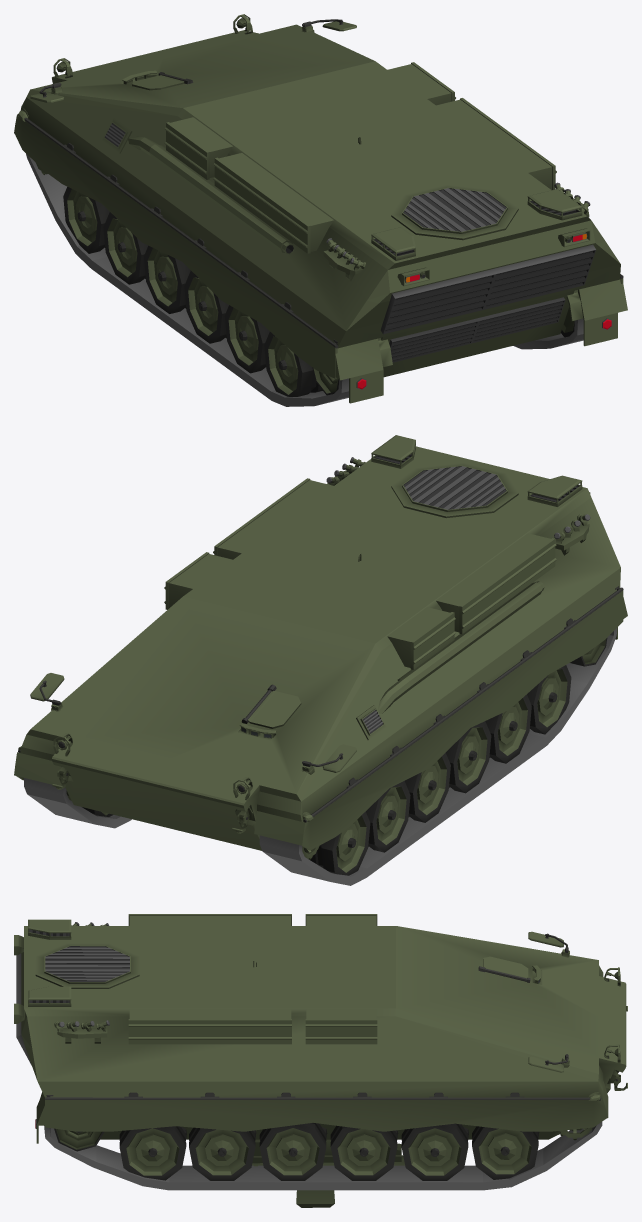
The model's file is roland.glb.
3 views of the same model, one above another, from view 1: azimuth 30°, elevation 25°; view 2: azimuth 150°, elevation 25°; view 3: azimuth 270°, elevation 25° (orthographic). The views are drawn at different scales.
Visible parts, largest first — view 1: body|Material#camo, body|Material.001#camo, body|Material.004, body|material_0, body|Material.007, body|Material.011, body|Material.008; view 2: body|Material#camo, body|Material.001#camo, body|Material.007, body|Material.011, body|Material.004, body|Material.008, body|material_0; view 3: body|Material#camo, body|Material.001#camo, body|Material.007, body|Material.011, body|Material.004, body|Material.008, body|material_0, cradle|Material.001#camo.
Boxes of the visible parts, x1=… form: body|Material#camo: x1=18, y1=24, x2=623, y2=377; body|Material.001#camo: x1=14, y1=14, x2=627, y2=403; body|Material.004: x1=105, y1=124, x2=612, y2=389; body|material_0: x1=104, y1=123, x2=594, y2=362; body|Material.007: x1=26, y1=154, x2=583, y2=406; body|Material.011: x1=63, y1=186, x2=574, y2=396; body|Material.008: x1=18, y1=19, x2=623, y2=348; body|Material#camo: x1=14, y1=446, x2=620, y2=850; body|Material.001#camo: x1=30, y1=435, x2=627, y2=872; body|Material.007: x1=24, y1=628, x2=616, y2=885; body|Material.011: x1=82, y1=638, x2=607, y2=875; body|Material.004: x1=326, y1=454, x2=590, y2=732; body|Material.008: x1=18, y1=586, x2=623, y2=822; body|material_0: x1=362, y1=455, x2=575, y2=733; body|Material#camo: x1=21, y1=926, x2=627, y2=1139; body|Material.001#camo: x1=14, y1=914, x2=620, y2=1175; body|Material.007: x1=44, y1=1122, x2=602, y2=1190; body|Material.011: x1=54, y1=1123, x2=538, y2=1180; body|Material.004: x1=16, y1=922, x2=129, y2=1128; body|Material.008: x1=45, y1=933, x2=619, y2=1137; body|material_0: x1=32, y1=930, x2=129, y2=1002; cradle|Material.001#camo: x1=252, y1=1139, x2=401, y2=1207.
Bounding box in the file's own units: 3.57 × 2.77 × 6.99.
